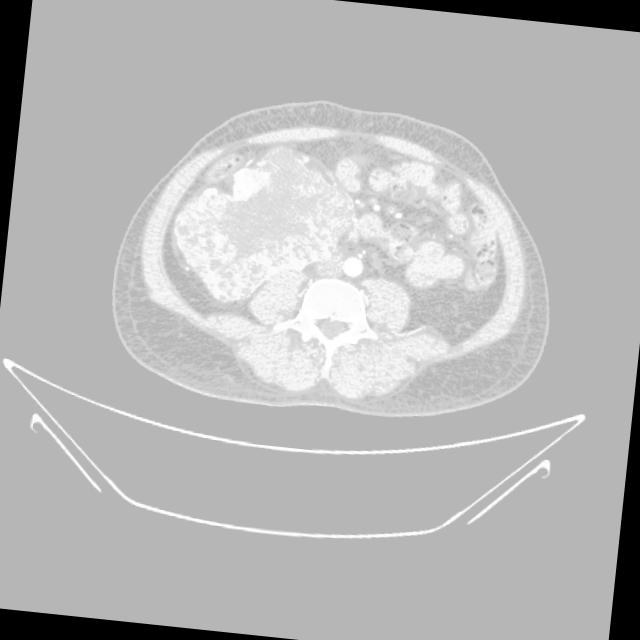TUMOR: (186, 169, 535, 335)
